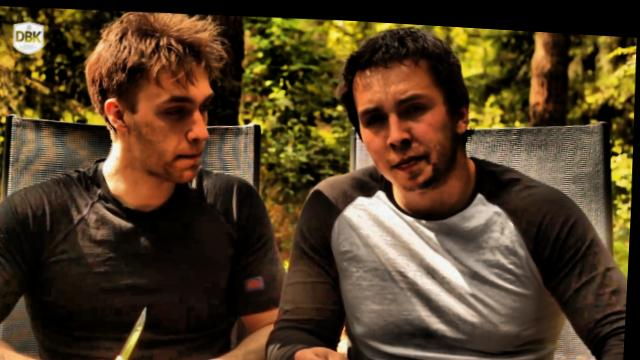knife: (88, 292, 164, 360)
